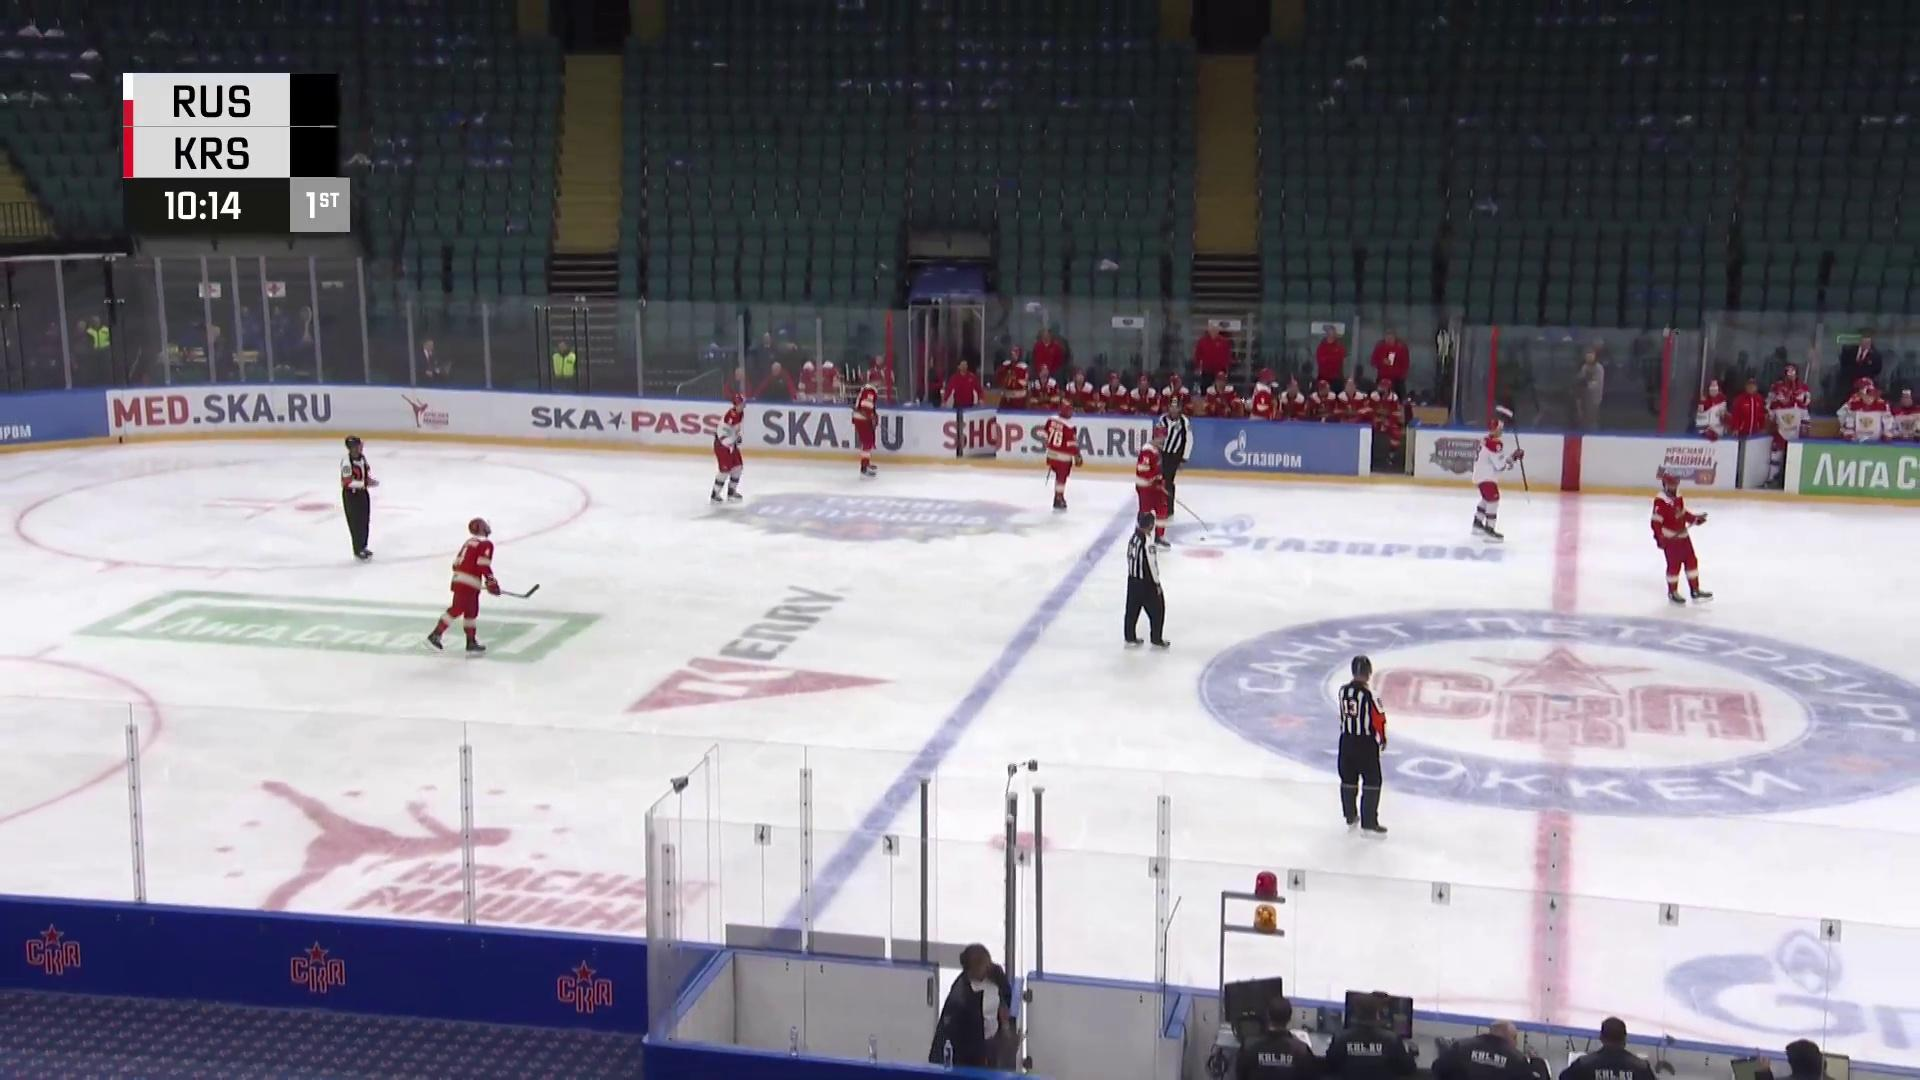ball: (1197, 534, 1208, 543)
